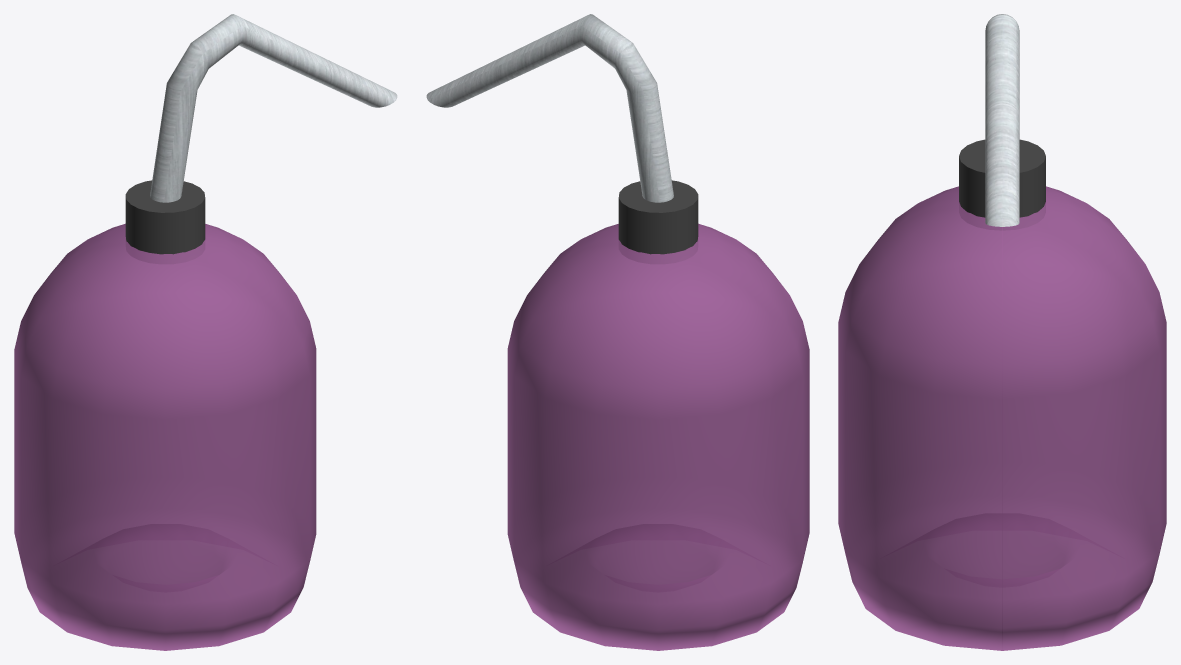
File: jabonManosTexturafbx.fbx
3 renders of one model, left to right at view 1: azimuth 30°, elevation 25°; view 2: azimuth 150°, elevation 25°; view 3: azimuth 270°, elevation 25°, orthographic. The views are drawn at different scales.
Parts seen in each view (by area): view 1: polySurface1; view 2: polySurface1; view 3: polySurface1.
Boxes of the visible parts, x1,y1,x2,y2 form: polySurface1: (14,14,397,650); polySurface1: (426,14,809,650); polySurface1: (838,14,1166,650).
Bounding box in the file's own units: 2.34 × 3.5 × 1.7.
3 materials, 1 textured.
